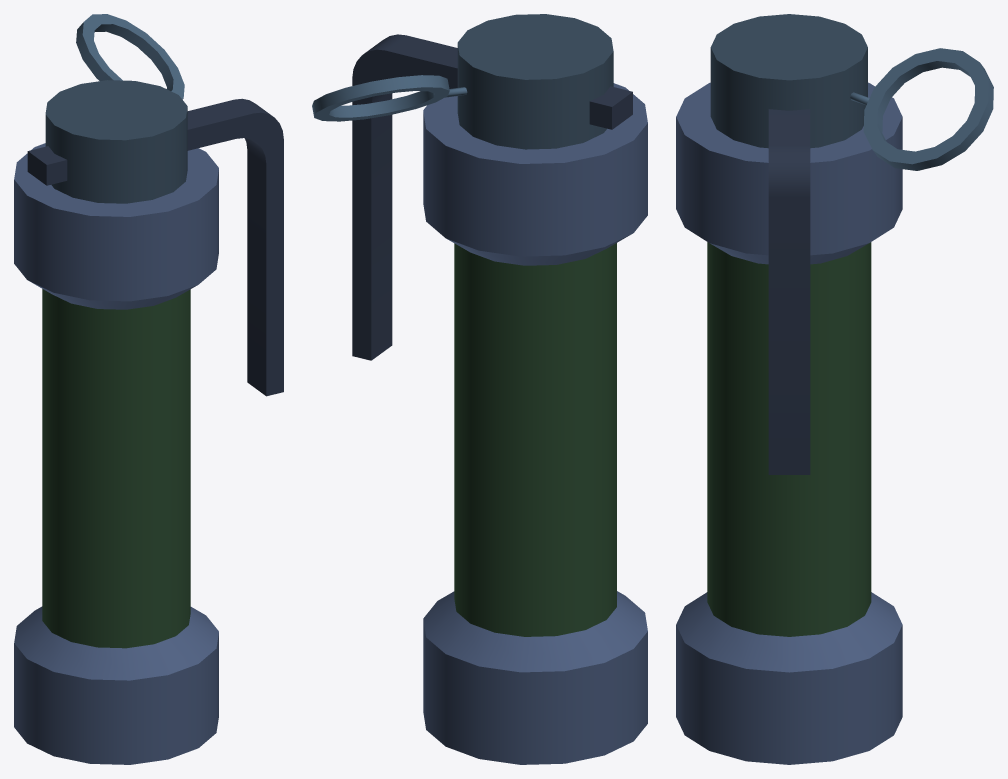
File: Flash grenade.fbx
3 views of the same model, side by side, from view 1: azimuth 30°, elevation 25°; view 2: azimuth 150°, elevation 25°; view 3: azimuth 270°, elevation 25° (orthographic). The views are drawn at different scales.
Parts seen in each view (by area): view 1: Granade 2; view 2: Granade 2; view 3: Granade 2.
Part boxes in pixels (bbox=[...]): Granade 2: bbox=[14, 14, 283, 764]; Granade 2: bbox=[312, 14, 647, 764]; Granade 2: bbox=[676, 14, 993, 764].
Size of the model in its own units: 0.1804 by 0.4396 by 0.1832.
